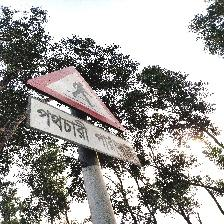Pedestrian-crossing: (24, 66, 141, 169)
